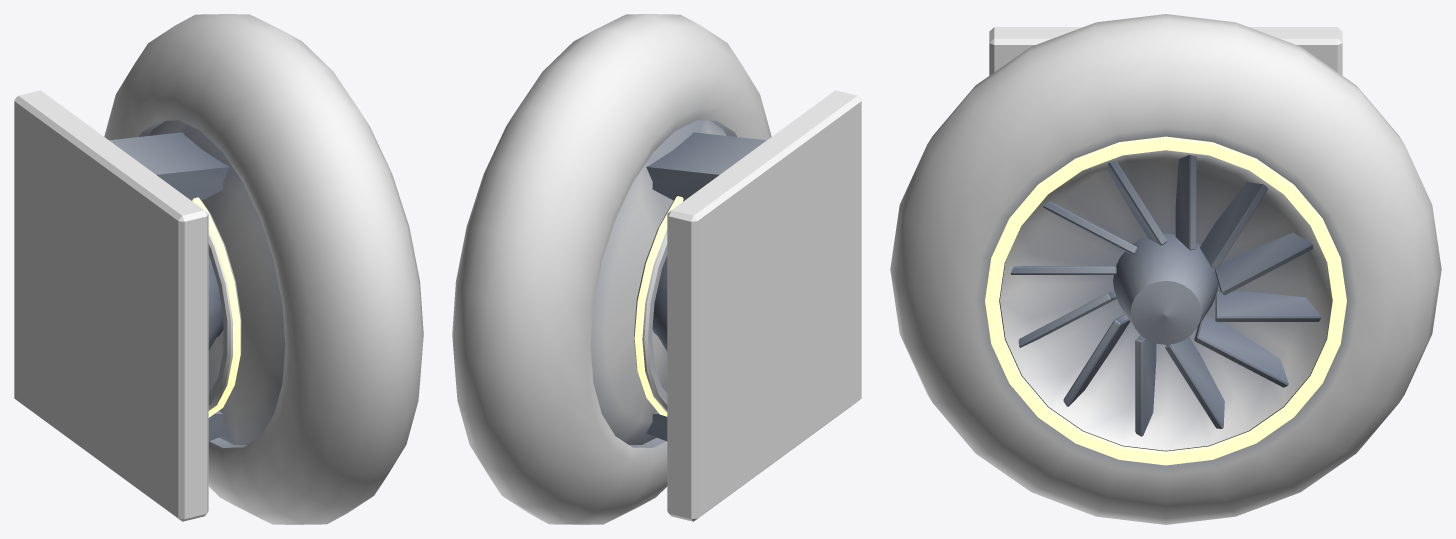
Rendered from R4M_WheelM_Side_Offroad_LOD1.fbx.
The picture shows the model from 3 angles, left to right: view 1: azimuth 30°, elevation 25°; view 2: azimuth 150°, elevation 25°; view 3: azimuth 270°, elevation 25°; orthographic projection. The views are drawn at different scales.
Visible parts, largest first — view 1: R4M_WheelM_Side_Offroad_LOD1; view 2: R4M_WheelM_Side_Offroad_LOD1; view 3: R4M_WheelM_Side_Offroad_LOD1.
Boxes of the visible parts, box(x1,y1,x2,y2) form: R4M_WheelM_Side_Offroad_LOD1: box(14, 14, 423, 524); R4M_WheelM_Side_Offroad_LOD1: box(452, 14, 861, 524); R4M_WheelM_Side_Offroad_LOD1: box(890, 14, 1441, 524).
Bounding box in the file's own units: 0.437 × 0.78 × 0.78.
